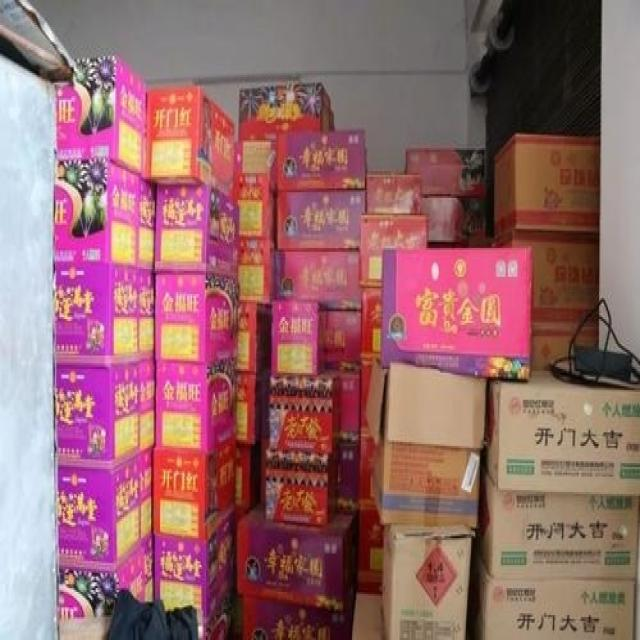box: (365, 359, 488, 529), (380, 248, 532, 381), (483, 369, 640, 496), (476, 467, 640, 578), (467, 540, 636, 640), (237, 502, 358, 615), (494, 133, 600, 240), (381, 523, 475, 640), (56, 56, 147, 175), (142, 88, 234, 198), (54, 454, 141, 567), (495, 233, 599, 327), (52, 350, 138, 463), (54, 158, 140, 267), (155, 509, 234, 627), (152, 438, 236, 544), (155, 185, 241, 279), (54, 261, 138, 356), (156, 359, 237, 455), (155, 273, 238, 363), (56, 544, 145, 621), (241, 586, 356, 640), (269, 371, 342, 455), (266, 448, 338, 529), (275, 188, 365, 250), (276, 131, 365, 190), (275, 250, 361, 311), (239, 85, 330, 142), (358, 213, 428, 286), (270, 300, 329, 379), (406, 150, 486, 198), (530, 325, 598, 369), (421, 196, 486, 242), (232, 142, 278, 200), (236, 302, 271, 373), (238, 238, 275, 304), (358, 507, 384, 596), (366, 171, 421, 213), (326, 309, 362, 371), (138, 350, 156, 454), (237, 371, 261, 444), (197, 590, 232, 640), (233, 198, 275, 238), (237, 440, 260, 509), (360, 286, 381, 361), (138, 448, 154, 546), (140, 177, 157, 269), (338, 444, 360, 513), (352, 594, 385, 640), (340, 373, 361, 444), (138, 269, 155, 350), (358, 434, 375, 507), (361, 357, 375, 434), (141, 534, 154, 602)
